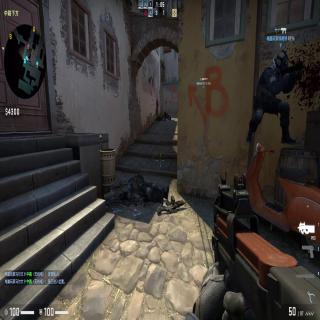CT-Body: (248, 49, 298, 145)
CT-Head: (274, 50, 288, 75)
